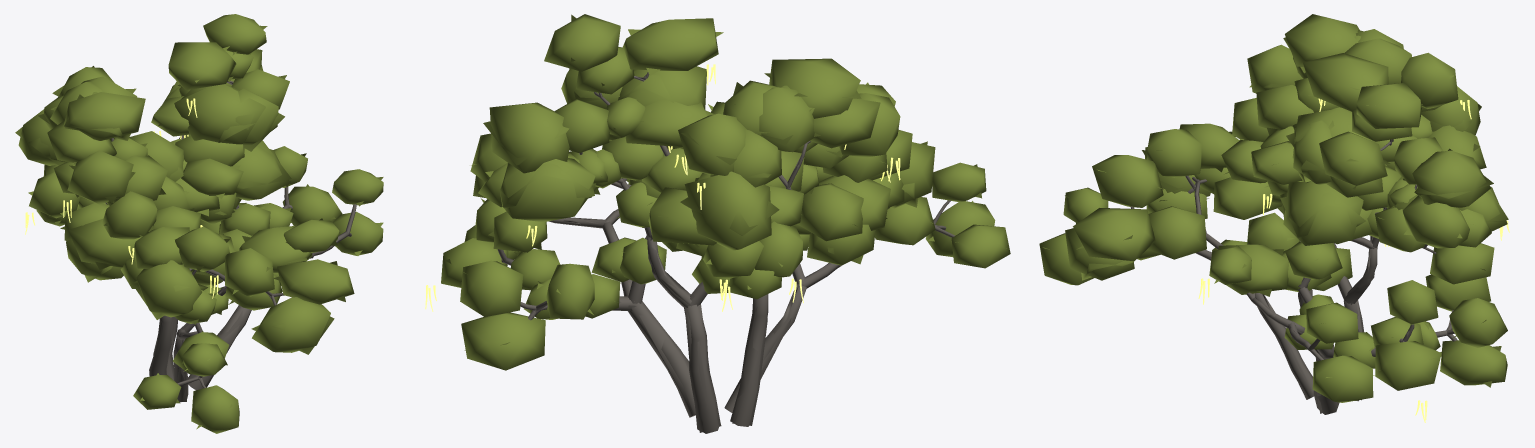
The model's file is scrub_oak_3.glb.
The picture shows the model from 3 angles, left to right: view 1: azimuth 30°, elevation 25°; view 2: azimuth 150°, elevation 25°; view 3: azimuth 270°, elevation 25°; orthographic projection. The views are drawn at different scales.
Visible parts, largest first — view 1: ScrubOak_Far_Foliage, ScrubOak_Foliage_32_Leaves, ScrubOak_Foliage_104_Leaves, ScrubOak_Foliage_76_Leaves, ScrubOak_Foliage_102_Leaves, ScrubOak_Foliage_100_Leaves, ScrubOak_Foliage_66_Leaves, ScrubOak_Foliage_80_Leaves, ScrubOak_Foliage_51_Leaves, ScrubOak_Foliage_79_Leaves, ScrubOak_Foliage_103_Leaves, ScrubOak_Foliage_95_Leaves (+45 smaller); view 2: ScrubOak_Foliage_83_Leaves, ScrubOak_Far_Bark, ScrubOak_Far_Foliage, ScrubOak_Foliage_72_Leaves, ScrubOak_Foliage_66_Leaves, ScrubOak_Foliage_15_Leaves, ScrubOak_Foliage_71_Leaves, ScrubOak_Foliage_76_Leaves, ScrubOak_LimbWood_1, ScrubOak_Foliage_63_Leaves, ScrubOak_Foliage_85_Leaves, ScrubOak_LimbWood_0 (+46 smaller); view 3: ScrubOak_Foliage_102_Leaves, ScrubOak_Far_Foliage, ScrubOak_Foliage_4_Leaves, ScrubOak_Foliage_66_Leaves, ScrubOak_Foliage_72_Leaves, ScrubOak_Foliage_103_Leaves, ScrubOak_Foliage_20_Leaves, ScrubOak_Foliage_64_Leaves, ScrubOak_Foliage_63_Leaves, ScrubOak_Foliage_76_Leaves, ScrubOak_Foliage_101_Leaves, ScrubOak_Foliage_69_Leaves (+48 smaller).
Boxes of the visible parts, x1,y1,x2,y2 form: ScrubOak_Far_Foliage: [15, 25, 383, 429]; ScrubOak_Foliage_32_Leaves: [174, 84, 265, 144]; ScrubOak_Foliage_104_Leaves: [252, 297, 330, 352]; ScrubOak_Foliage_76_Leaves: [63, 92, 145, 140]; ScrubOak_Foliage_102_Leaves: [277, 259, 354, 304]; ScrubOak_Foliage_100_Leaves: [136, 260, 202, 317]; ScrubOak_Foliage_66_Leaves: [168, 42, 236, 90]; ScrubOak_Foliage_80_Leaves: [67, 150, 133, 204]; ScrubOak_Foliage_51_Leaves: [68, 219, 140, 267]; ScrubOak_Foliage_79_Leaves: [102, 191, 157, 239]; ScrubOak_Foliage_103_Leaves: [225, 248, 274, 296]; ScrubOak_Foliage_95_Leaves: [191, 385, 239, 433]; ScrubOak_Foliage_83_Leaves: [684, 171, 771, 250]; ScrubOak_Far_Bark: [498, 74, 953, 432]; ScrubOak_Far_Foliage: [444, 14, 1006, 350]; ScrubOak_Foliage_72_Leaves: [489, 102, 569, 173]; ScrubOak_Foliage_66_Leaves: [622, 18, 718, 70]; ScrubOak_Foliage_15_Leaves: [461, 312, 545, 370]; ScrubOak_Foliage_71_Leaves: [500, 158, 595, 222]; ScrubOak_Foliage_76_Leaves: [769, 58, 860, 118]; ScrubOak_LimbWood_1: [580, 152, 719, 433]; ScrubOak_Foliage_63_Leaves: [544, 14, 620, 71]; ScrubOak_Foliage_85_Leaves: [678, 113, 746, 175]; ScrubOak_LimbWood_0: [497, 209, 695, 417]; ScrubOak_Foliage_102_Leaves: [1073, 208, 1155, 261]; ScrubOak_Far_Foliage: [1043, 30, 1508, 387]; ScrubOak_Foliage_4_Leaves: [1283, 181, 1363, 245]; ScrubOak_Foliage_66_Leaves: [1303, 53, 1388, 111]; ScrubOak_Foliage_72_Leaves: [1412, 150, 1490, 207]; ScrubOak_Foliage_103_Leaves: [1092, 155, 1163, 207]; ScrubOak_Foliage_20_Leaves: [1375, 341, 1441, 390]; ScrubOak_Foliage_64_Leaves: [1319, 131, 1387, 185]; ScrubOak_Foliage_63_Leaves: [1356, 83, 1421, 128]; ScrubOak_Foliage_76_Leaves: [1285, 14, 1359, 66]; ScrubOak_Foliage_101_Leaves: [1147, 206, 1206, 259]; ScrubOak_Foliage_69_Leaves: [1402, 195, 1469, 248].
Bounding box in the file's own units: 3.95 × 3.62 × 4.35.
